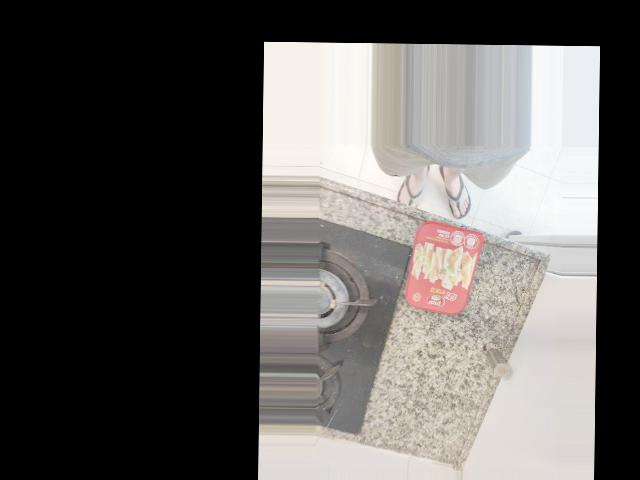cheese: (388, 299, 470, 414)
